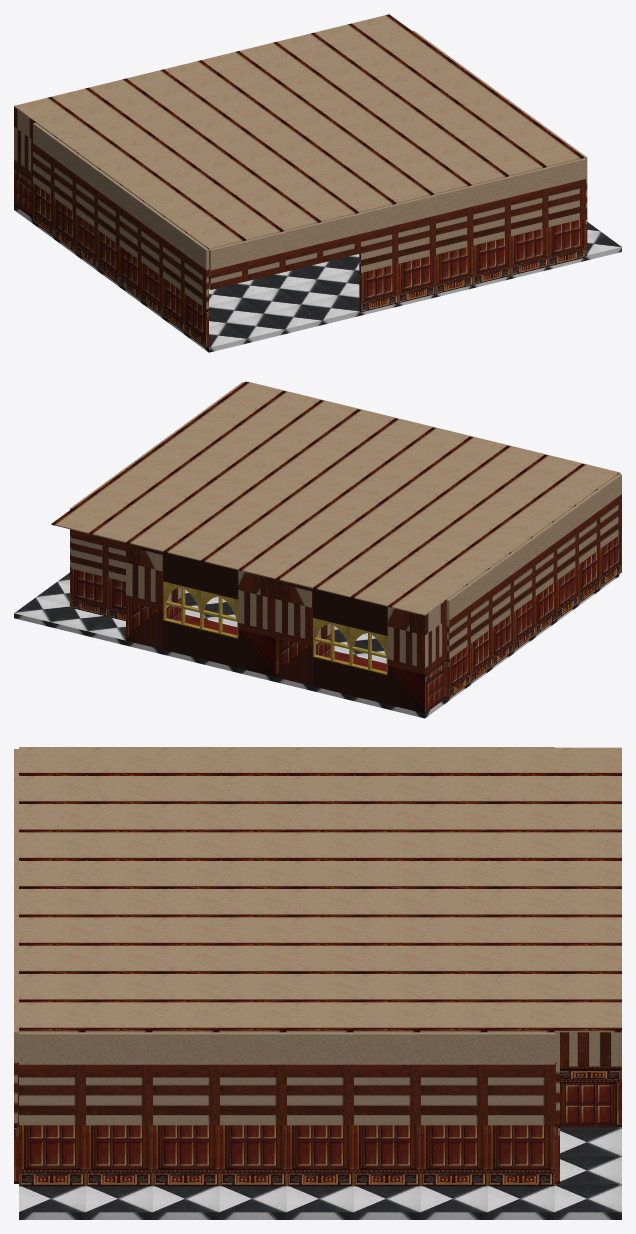
File: ConcertRoom.fbx
The picture shows the model from 3 angles, top to bottom: view 1: azimuth 30°, elevation 25°; view 2: azimuth 150°, elevation 25°; view 3: azimuth 270°, elevation 25°; orthographic projection. The views are drawn at different scales.
Parts seen in each view (by area): view 1: Ceiling, ConcertRoomFloorTiles, ConcertRoomWallB0Front, ConcertRoomWallB1Front, ConcertRoomWallB2Front, ConcertRoomWallB1Left, ConcertRoomWallB0Left, ConcertRoomWallB2Left, ConcertRoomWallB1Front.001, ConcertRoomWallWindow.002; view 2: Ceiling, ConcertRoomWallWindow.002, ConcertRoomWallWindow.001, ConcertRoomFloorTiles, ConcertRoomWallB1Left, ConcertRoomWallB0Left, ConcertRoomWallB2Left, ConcertRoomWallB1Back, ConcertRoomWallB0Back, ConcertRoomWallWindow.005, ConcertRoomWallWindow.003, ConcertRoomWallWindow.004 (+2 smaller); view 3: Ceiling, ConcertRoomWallB1Right, ConcertRoomWallB0Right, ConcertRoomFloorTiles, ConcertRoomWallB2Right, ConcertRoomWallWindow.001, ConcertRoomWallB2Front.
Part boxes in pixels (<box>): Ceiling: <box>14,14,584,249</box>; ConcertRoomFloorTiles: <box>14,205,621,352</box>; ConcertRoomWallB0Front: <box>359,218,585,312</box>; ConcertRoomWallB1Front: <box>359,179,585,272</box>; ConcertRoomWallB2Front: <box>209,158,585,270</box>; ConcertRoomWallB1Left: <box>33,143,208,309</box>; ConcertRoomWallB0Left: <box>33,182,208,348</box>; ConcertRoomWallB2Left: <box>33,122,208,269</box>; ConcertRoomWallB1Front.001: <box>209,234,360,289</box>; ConcertRoomWallWindow.002: <box>14,107,34,218</box>; Ceiling: <box>51,381,619,615</box>; ConcertRoomWallWindow.002: <box>275,579,446,713</box>; ConcertRoomWallWindow.001: <box>126,543,275,676</box>; ConcertRoomFloorTiles: <box>14,572,619,718</box>; ConcertRoomWallB1Left: <box>446,494,621,659</box>; ConcertRoomWallB0Left: <box>446,533,621,698</box>; ConcertRoomWallB2Left: <box>446,474,621,620</box>; ConcertRoomWallB1Back: <box>71,529,125,581</box>; ConcertRoomWallB0Back: <box>71,569,125,620</box>; ConcertRoomWallWindow.005: <box>163,581,200,629</box>; ConcertRoomWallWindow.003: <box>313,618,350,665</box>; ConcertRoomWallWindow.004: <box>201,590,238,638</box>; Ceiling: <box>19,747,621,1032</box>; ConcertRoomWallB1Right: <box>19,1064,554,1125</box>; ConcertRoomWallB0Right: <box>19,1125,554,1186</box>; ConcertRoomFloorTiles: <box>19,1127,621,1219</box>; ConcertRoomWallB2Right: <box>19,1032,554,1064</box>; ConcertRoomWallWindow.001: <box>560,1032,621,1127</box>; ConcertRoomWallB2Front: <box>14,749,18,1062</box>.
Bounding box in the file's own units: 2215 × 530 × 1815.
